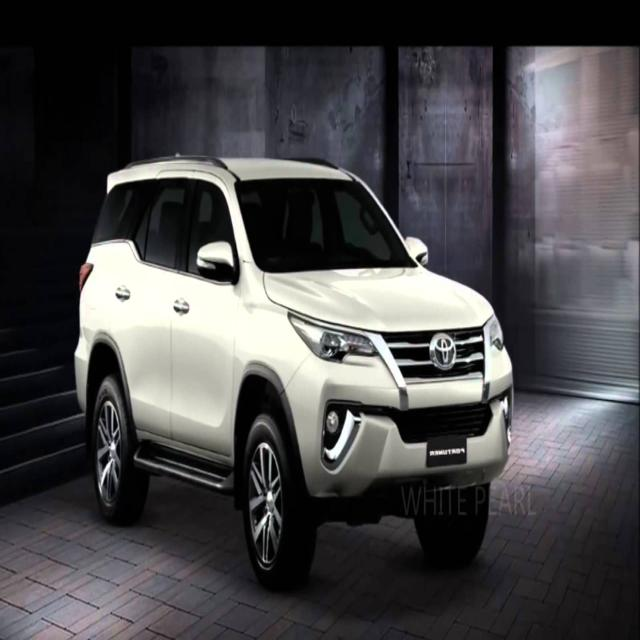light_vehicle: (74, 154, 514, 590)
